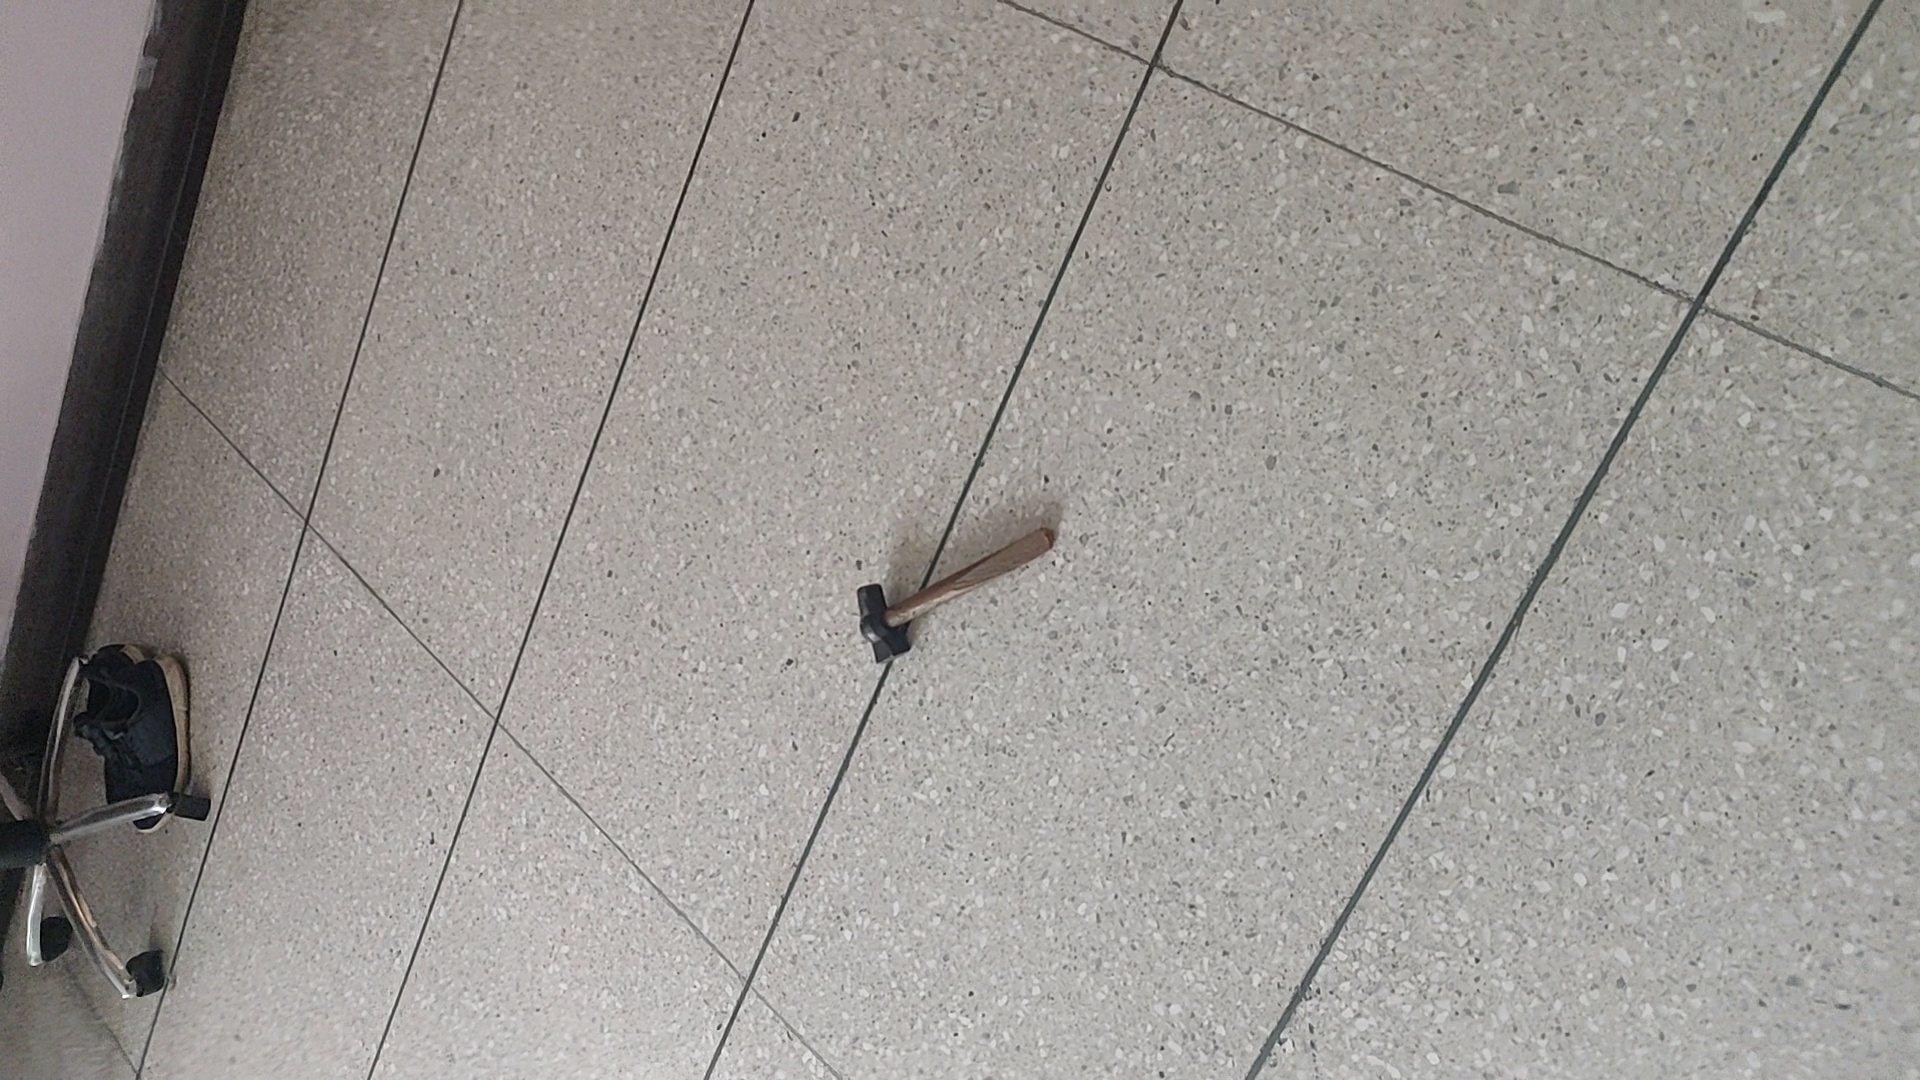hammer: (843, 524, 1059, 673)
